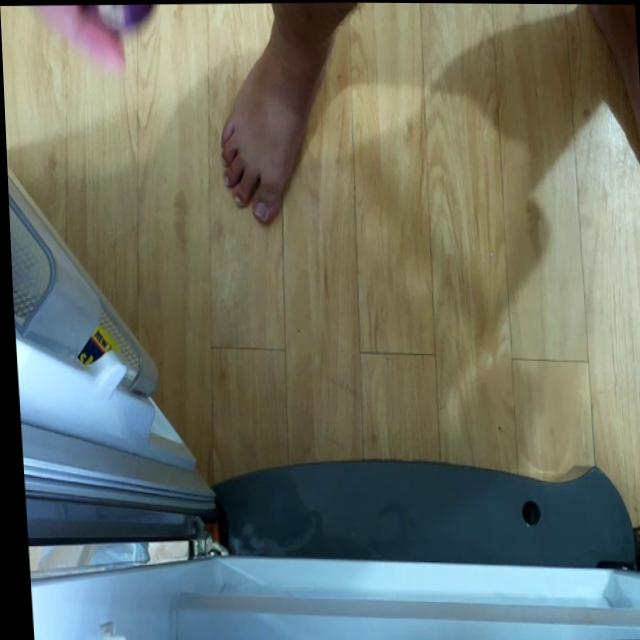onion: (82, 3, 163, 31)
